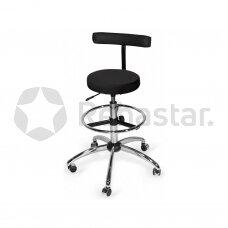chair: (66, 31, 161, 196)
